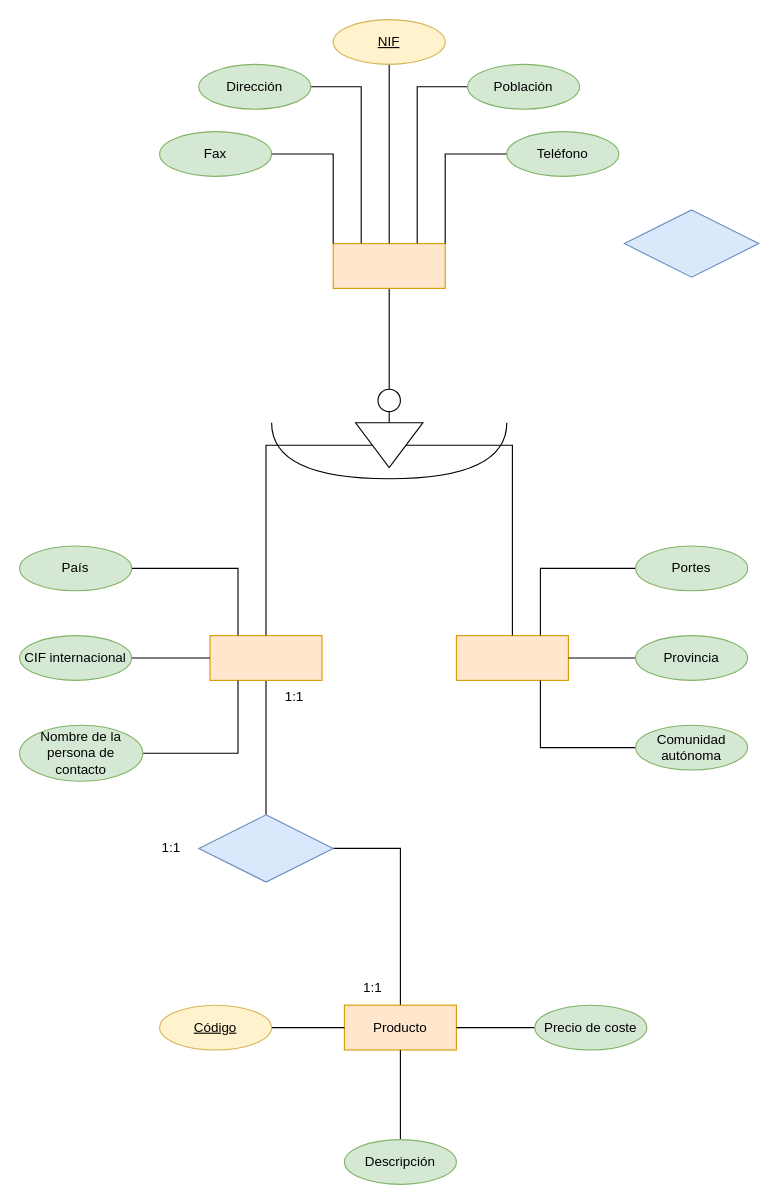
The diagram is 778 pixels wide and 1204 high, and some of its shapes have lost their labels. The box of each missing label's shape, as (x1, y1, x2, y2) in pixels:
Empresa: (332, 242, 445, 288)
Empresa cliente: (455, 634, 568, 680)
Empresa proveedora: (209, 634, 322, 680)
Es comprado: (623, 209, 759, 277)
Provee: (198, 814, 333, 882)
